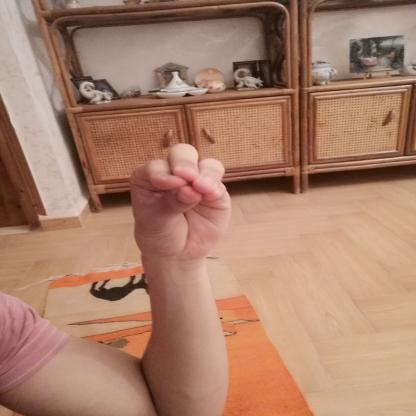HA: (108, 133, 252, 271)
